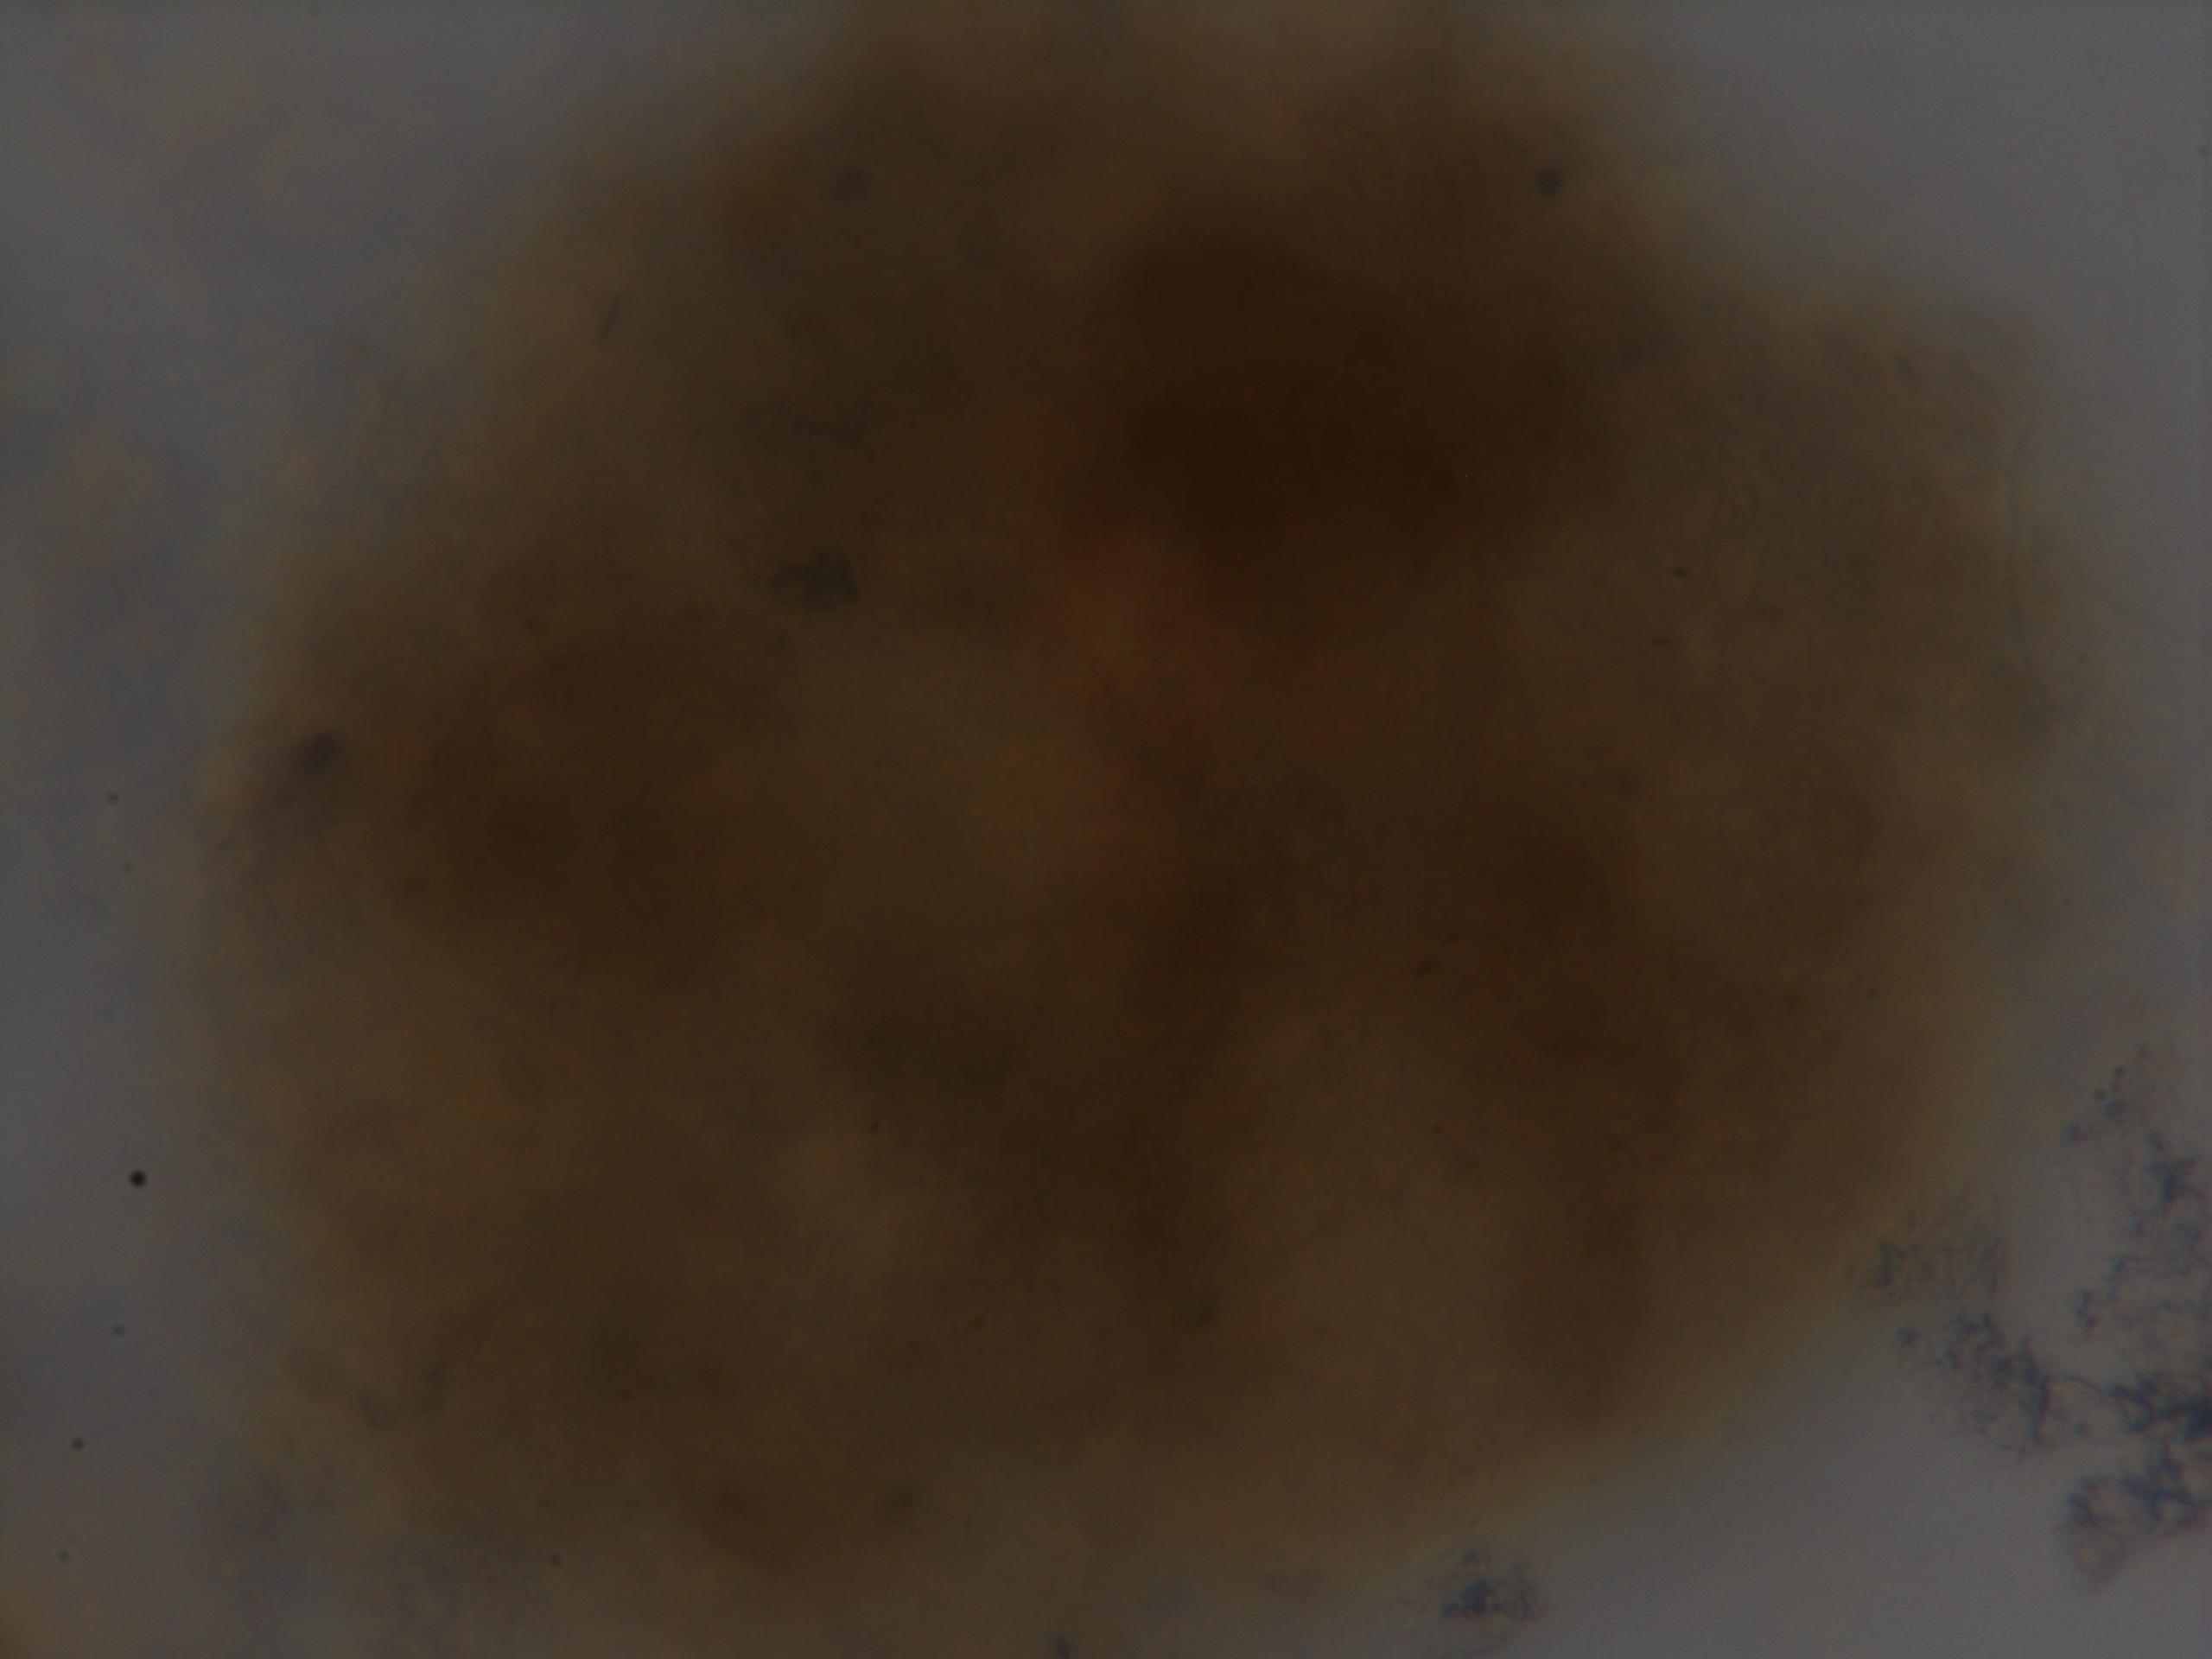spherical_floc: (174, 0, 2083, 1659)
